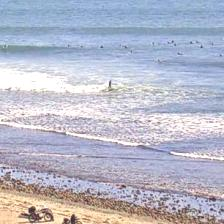surfer: (108, 80, 112, 88), (210, 42, 215, 46), (157, 59, 162, 63), (200, 45, 204, 49), (196, 40, 200, 43), (189, 41, 193, 44), (177, 53, 183, 55), (171, 40, 174, 43), (168, 42, 172, 44), (67, 45, 71, 47), (4, 44, 6, 48), (220, 54, 223, 56), (174, 43, 176, 46), (126, 46, 128, 49), (100, 46, 103, 48), (80, 46, 83, 48), (152, 42, 154, 44), (131, 50, 132, 54), (119, 44, 121, 46)
